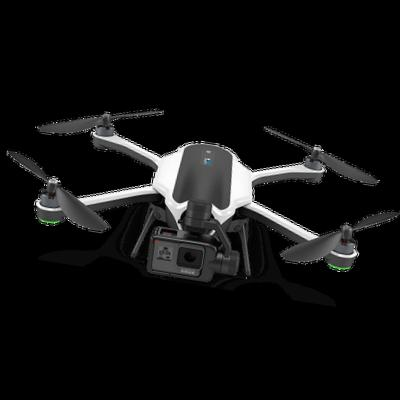drone: (5, 81, 400, 299)
